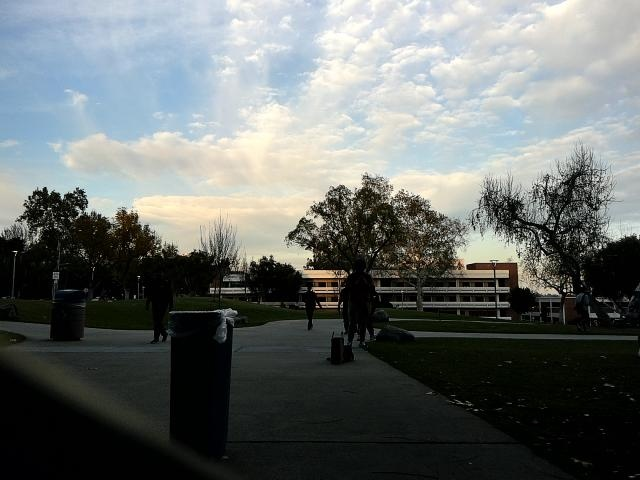trashcan_open: (162, 303, 243, 448)
